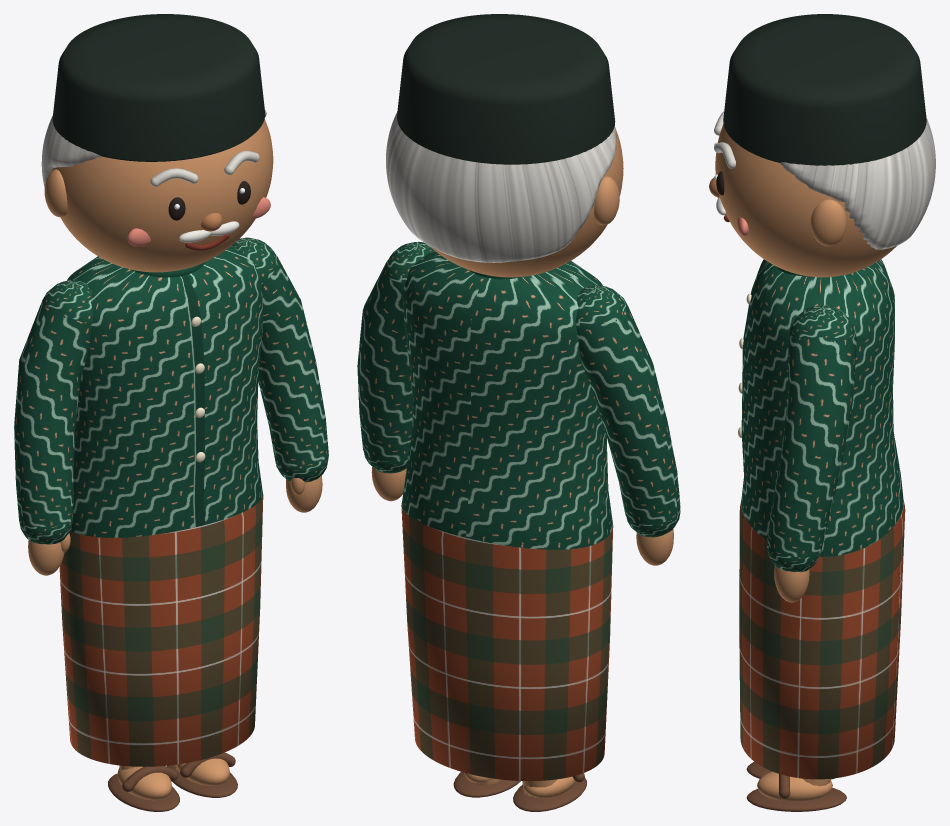
File: elder_male.glb
The picture shows the model from 3 angles, left to right: view 1: azimuth 30°, elevation 25°; view 2: azimuth 150°, elevation 25°; view 3: azimuth 270°, elevation 25°; orthographic projection. The views are drawn at different scales.
Visible parts, largest first — view 1: shirt, sarung, peci, skin, sandal, hair, brow, blush, hair_plain; view 2: shirt, sarung, peci, hair, skin, sandal; view 3: shirt, sarung, peci, skin, hair, sandal, brow.
Boxes of the visible parts, left/top/right/bottom form: shirt: left=14, top=237, right=328, bottom=544; sarung: left=59, top=494, right=263, bottom=766; peci: left=52, top=14, right=265, bottom=161; skin: left=28, top=119, right=322, bottom=800; sandal: left=108, top=752, right=237, bottom=811; hair: left=41, top=109, right=266, bottom=187; brow: left=150, top=150, right=259, bottom=186; blush: left=127, top=197, right=270, bottom=246; hair_plain: left=179, top=221, right=239, bottom=242; shirt: left=357, top=241, right=680, bottom=549; sarung: left=401, top=505, right=613, bottom=781; peci: left=397, top=14, right=615, bottom=164; hair: left=386, top=112, right=616, bottom=262; skin: left=371, top=127, right=673, bottom=798; sandal: left=453, top=772, right=586, bottom=811; shirt: left=741, top=259, right=903, bottom=572; sarung: left=739, top=499, right=905, bottom=779; peci: left=723, top=14, right=926, bottom=165; skin: left=715, top=123, right=896, bottom=801; hair: left=780, top=117, right=935, bottom=249; sandal: left=746, top=761, right=846, bottom=811; brow: left=714, top=111, right=735, bottom=168.
Size of the model in its own units: 0.5756 by 1.33 by 0.3704.
Materials: 15 (3 with a texture image).
